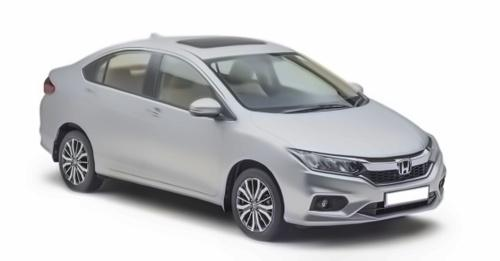Car hood: (233, 98, 430, 159)
Driver-s door - -F-R-: (135, 30, 223, 213)
Fender - -F-R-: (212, 95, 293, 227)
Fender - -R-R-: (50, 45, 96, 150)
Front bumper: (265, 152, 467, 228)
Headlight - -L-: (425, 129, 440, 166)
Headlight - -R-: (286, 146, 367, 178)
Passenger-s door - -R-R-: (77, 28, 163, 186)
Rear bumper: (39, 97, 63, 163)
Rear light - -R-: (41, 75, 58, 98)
Side bumper - -R-: (90, 152, 231, 214)
Side mirror - -R-: (188, 96, 229, 124)
